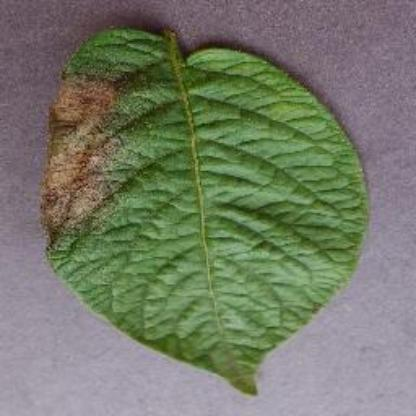Late-Blight: (37, 17, 379, 396)
